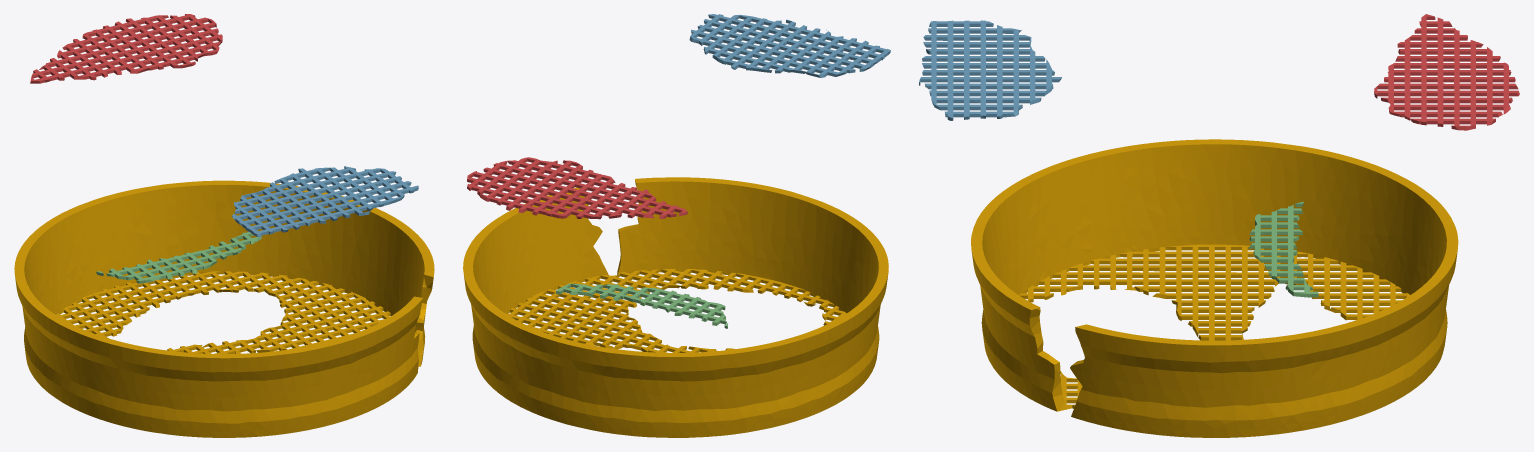
Rendered from fractured_65_4pcs_transformed.glb.
3 renders of one model, left to right at view 1: azimuth 30°, elevation 25°; view 2: azimuth 150°, elevation 25°; view 3: azimuth 270°, elevation 25°, orthographic. The views are drawn at different scales.
Parts seen in each view (by area): view 1: piece_0.obj, piece_1.obj, piece_2.obj, piece_3.obj; view 2: piece_0.obj, piece_1.obj, piece_2.obj, piece_3.obj; view 3: piece_0.obj, piece_1.obj, piece_2.obj, piece_3.obj.
Boxes of the visible parts, bbox=[...] form: piece_0.obj: bbox=[14, 180, 434, 437]; piece_1.obj: bbox=[30, 14, 222, 83]; piece_2.obj: bbox=[232, 166, 418, 236]; piece_3.obj: bbox=[96, 230, 261, 283]; piece_0.obj: bbox=[463, 177, 888, 437]; piece_1.obj: bbox=[467, 157, 687, 219]; piece_2.obj: bbox=[689, 14, 890, 77]; piece_3.obj: bbox=[555, 283, 728, 328]; piece_0.obj: bbox=[971, 139, 1458, 437]; piece_1.obj: bbox=[1374, 14, 1519, 130]; piece_2.obj: bbox=[919, 20, 1061, 120]; piece_3.obj: bbox=[1248, 201, 1318, 297].
Bounding box in the file's own units: 1 × 0.6078 × 1.23.
